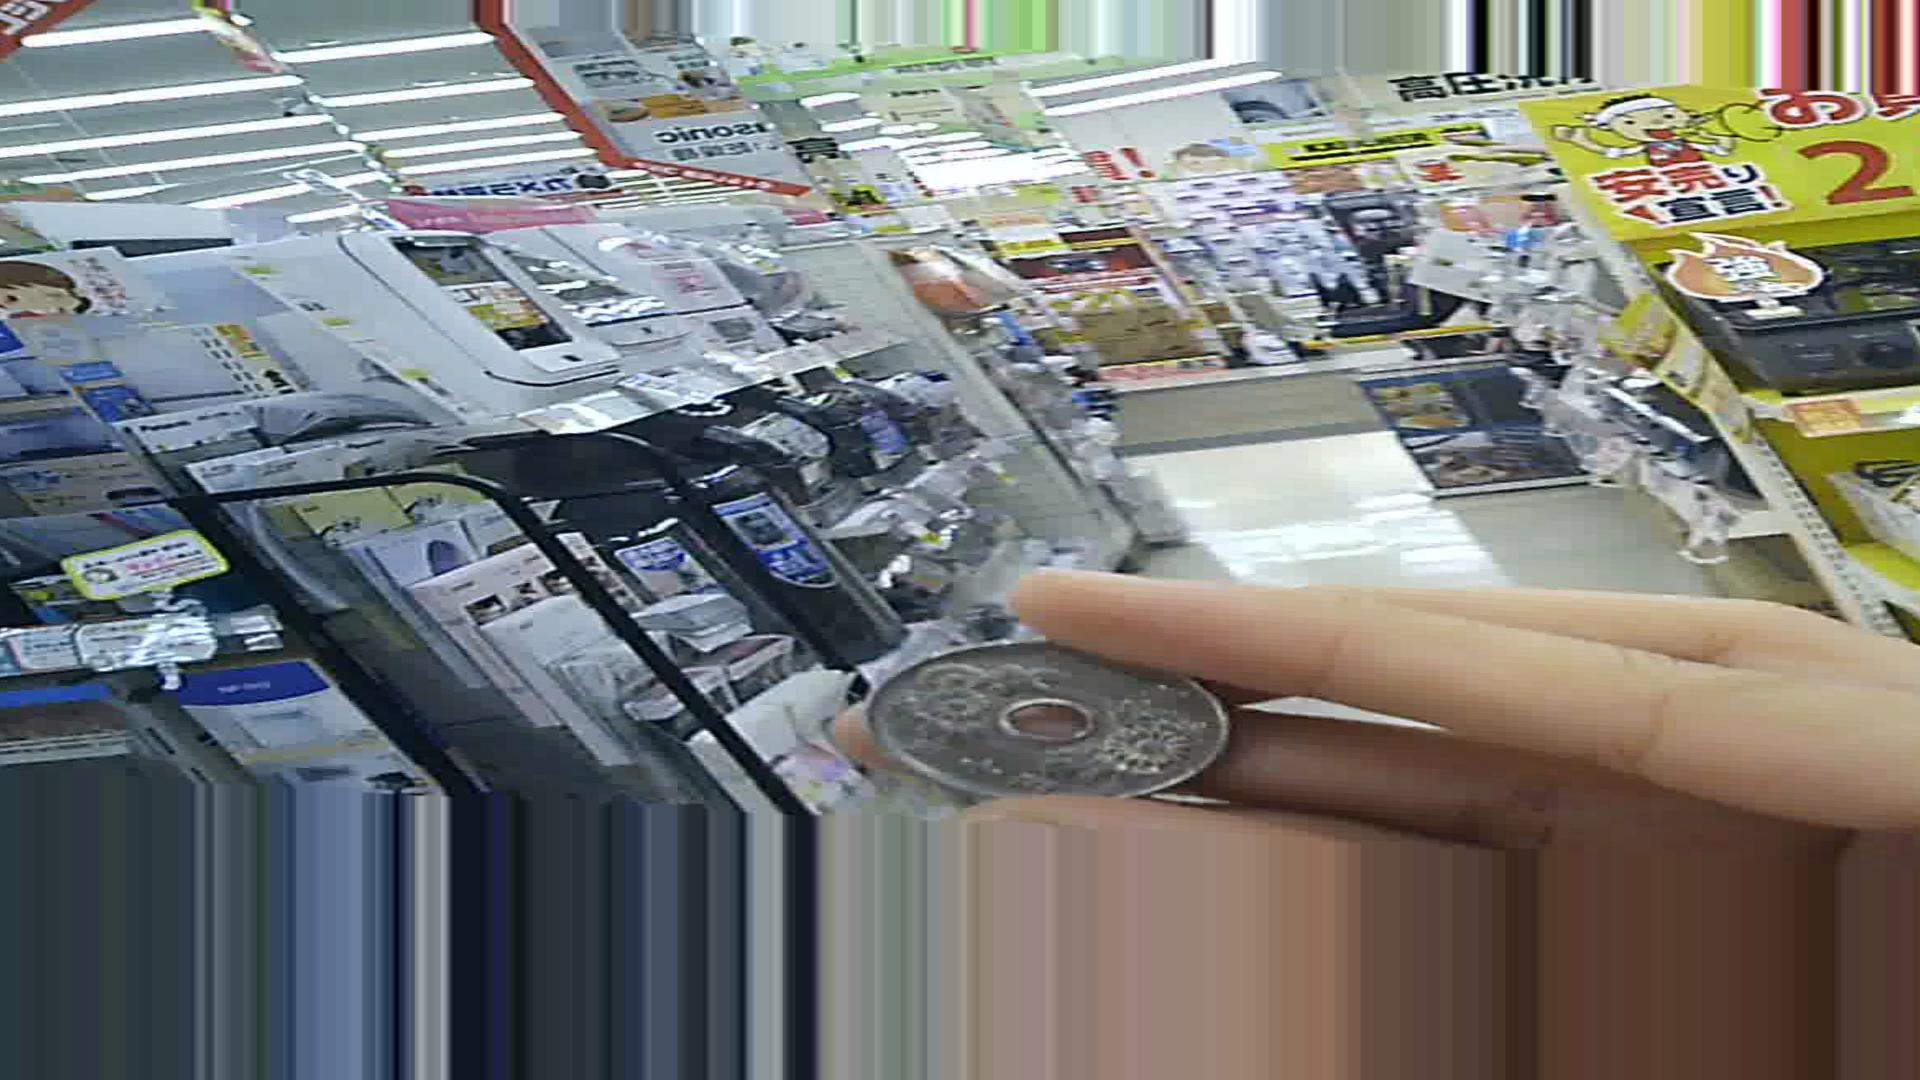50 Yen: (849, 628, 1233, 816)
